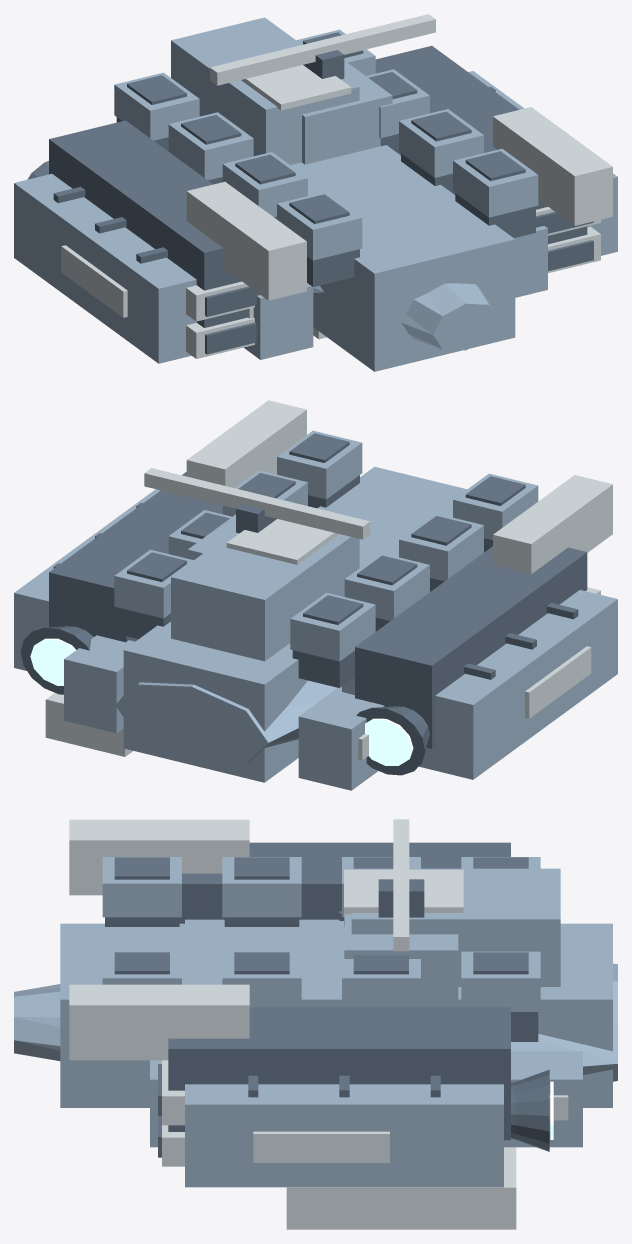
The picture shows the model from 3 angles, top to bottom: view 1: azimuth 30°, elevation 25°; view 2: azimuth 150°, elevation 25°; view 3: azimuth 270°, elevation 25°; orthographic projection. The views are drawn at different scales.
Size of the model in its own units: 15.95 by 7.85 by 16.17.
